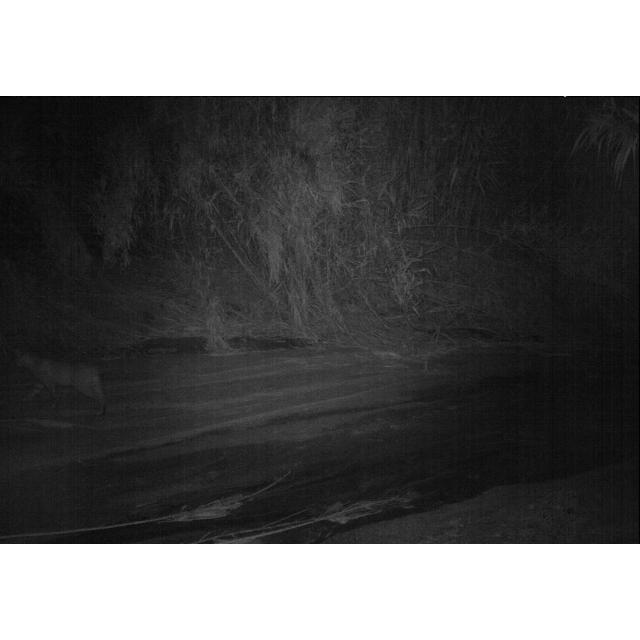animals: (12, 345, 118, 407)
